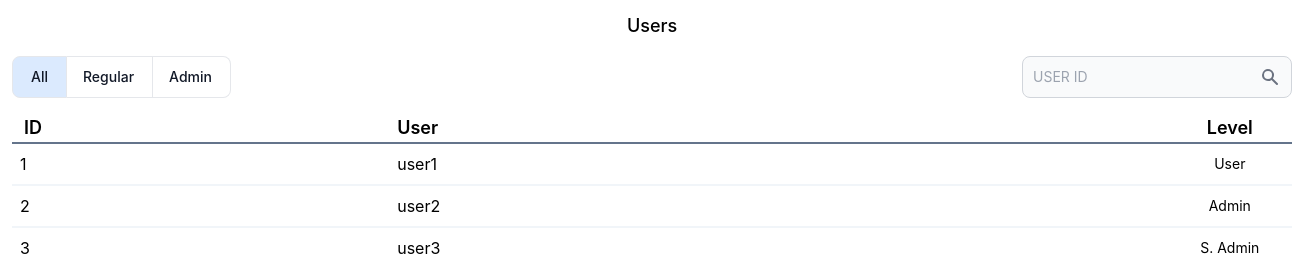
Scenario: AllUsersPage › should only show regular users when sorting by regular
Check: the text "user1" is shown, box 397,154 -> 437,174
Check: the text "user2" is shown, box 397,196 -> 440,216
# Simulate click event on "Open" button
Click the button "Regular". click: (110, 77)
box: 67,56 -> 153,98
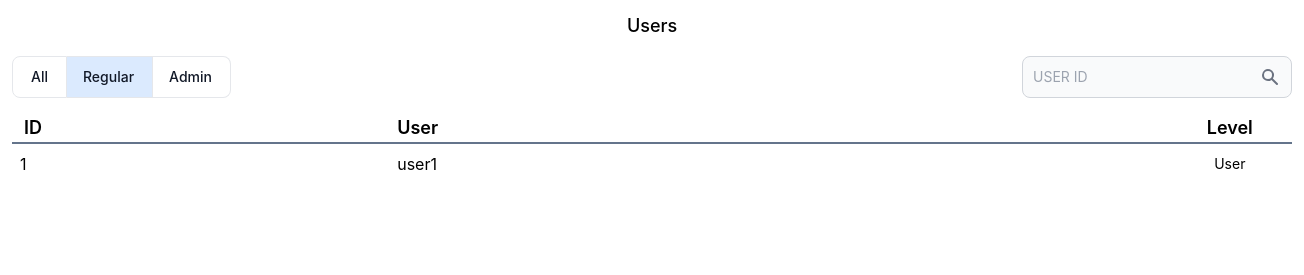
Check: the text "user1" is shown, box 397,154 -> 437,174
Check: the text "user2" is gone
Check: the text "user3" is gone
